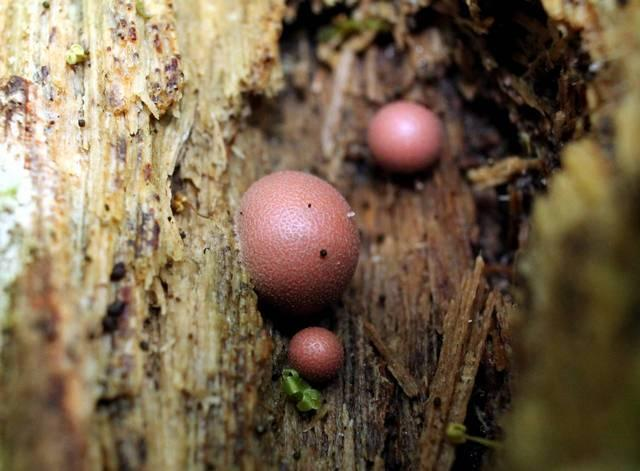poisonous_mushroom: (233, 168, 361, 315), (366, 99, 443, 173), (286, 325, 345, 381)
